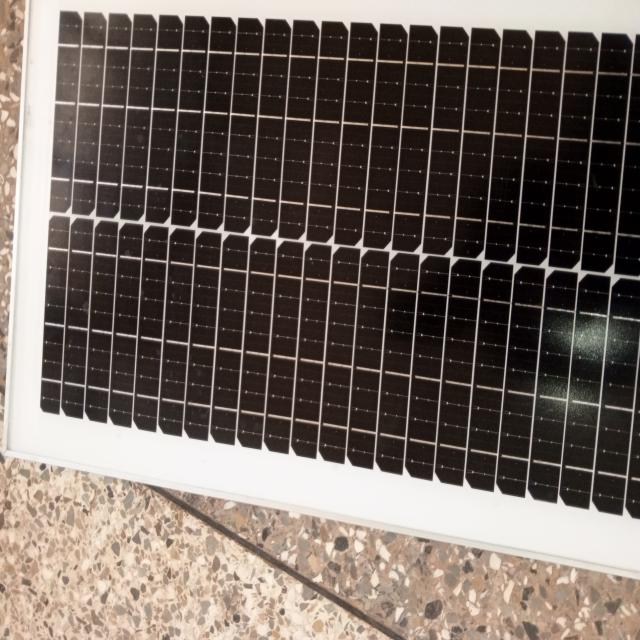Clean: (29, 4, 640, 426)
